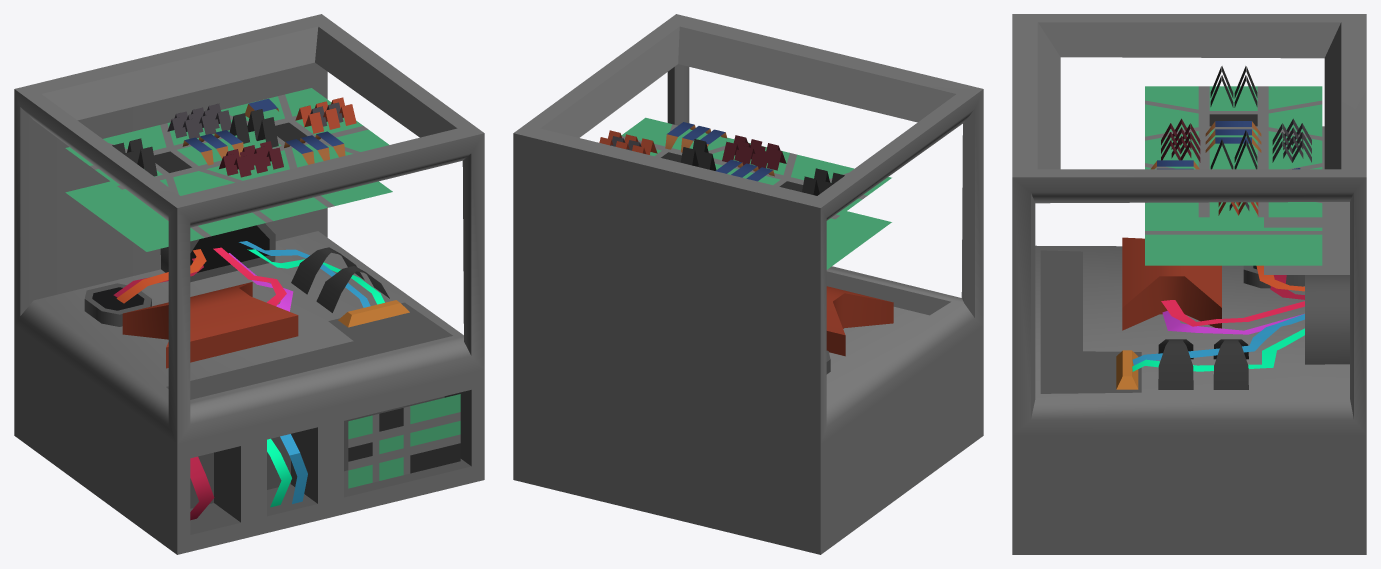
File: MachineFrame.fbx
3 renders of one model, left to right at view 1: azimuth 30°, elevation 25°; view 2: azimuth 150°, elevation 25°; view 3: azimuth 270°, elevation 25°, orthographic. The views are drawn at different scales.
Parts seen in each view (by area): view 1: MachineFrame, MachineFrameCircuitBoard, MachineFrameWires; view 2: MachineFrame, MachineFrameCircuitBoard; view 3: MachineFrame, MachineFrameCircuitBoard, MachineFrameWires.
Part boxes in pixels (x1,y1,x2,y2): MachineFrame: (14, 14, 484, 554); MachineFrameCircuitBoard: (65, 88, 460, 488); MachineFrameWires: (113, 241, 384, 520); MachineFrame: (513, 14, 983, 554); MachineFrameCircuitBoard: (599, 117, 891, 269); MachineFrame: (1012, 14, 1366, 554); MachineFrameCircuitBoard: (1145, 66, 1322, 265); MachineFrameWires: (1132, 265, 1304, 371).
Size of the model in its own units: 0.8068 by 0.87 by 0.7404.
